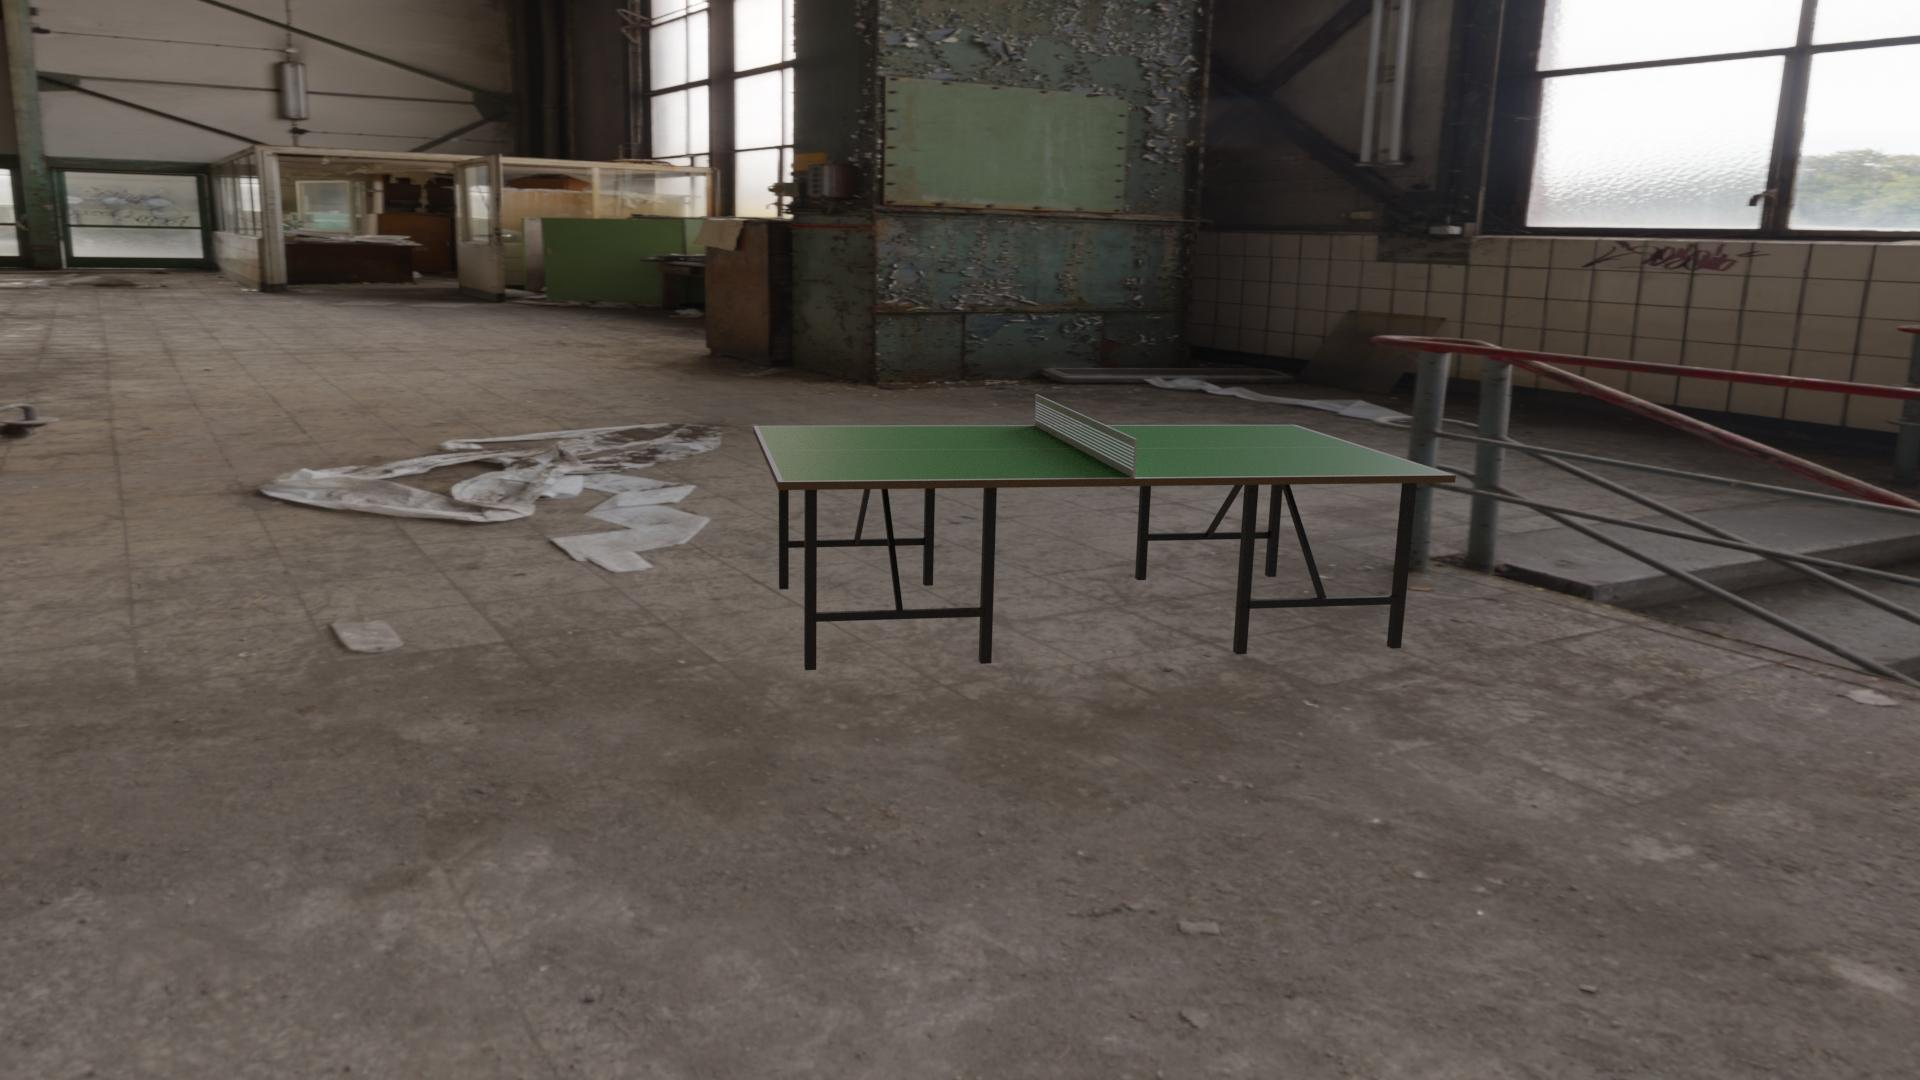table: (758, 426, 1449, 481)
